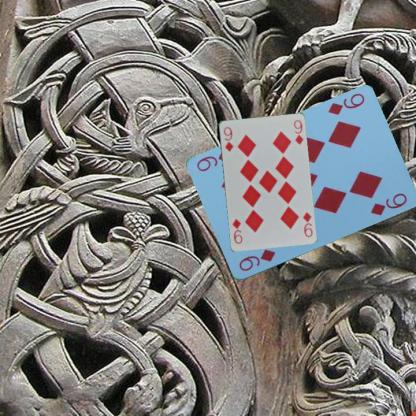9d: (236, 246, 277, 272), (325, 90, 366, 116), (300, 209, 314, 238), (221, 124, 234, 153)
